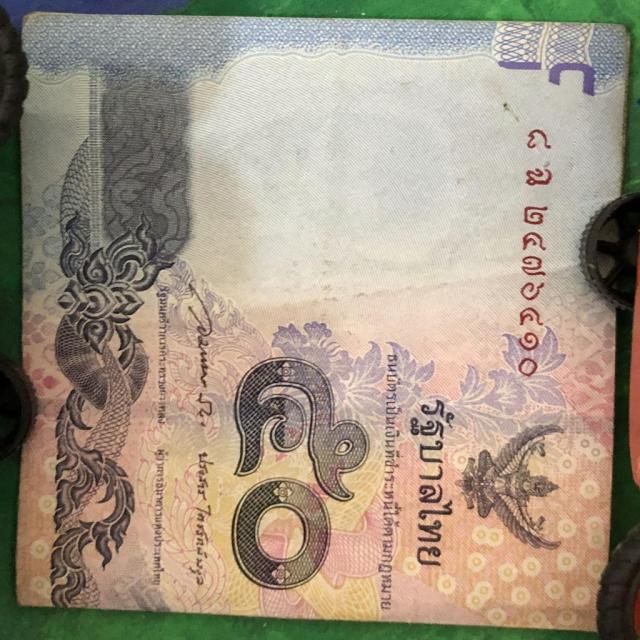THAI50: (15, 12, 632, 634)
